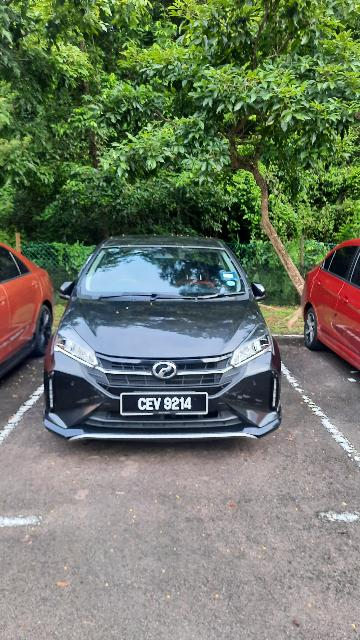License_Plate: (114, 386, 210, 421)
car: (37, 229, 283, 449)
